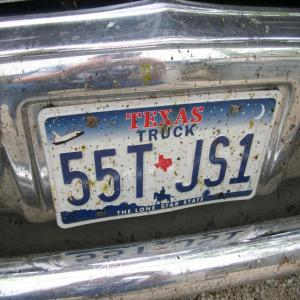Vehicle-registration-plate: (24, 91, 294, 233)
